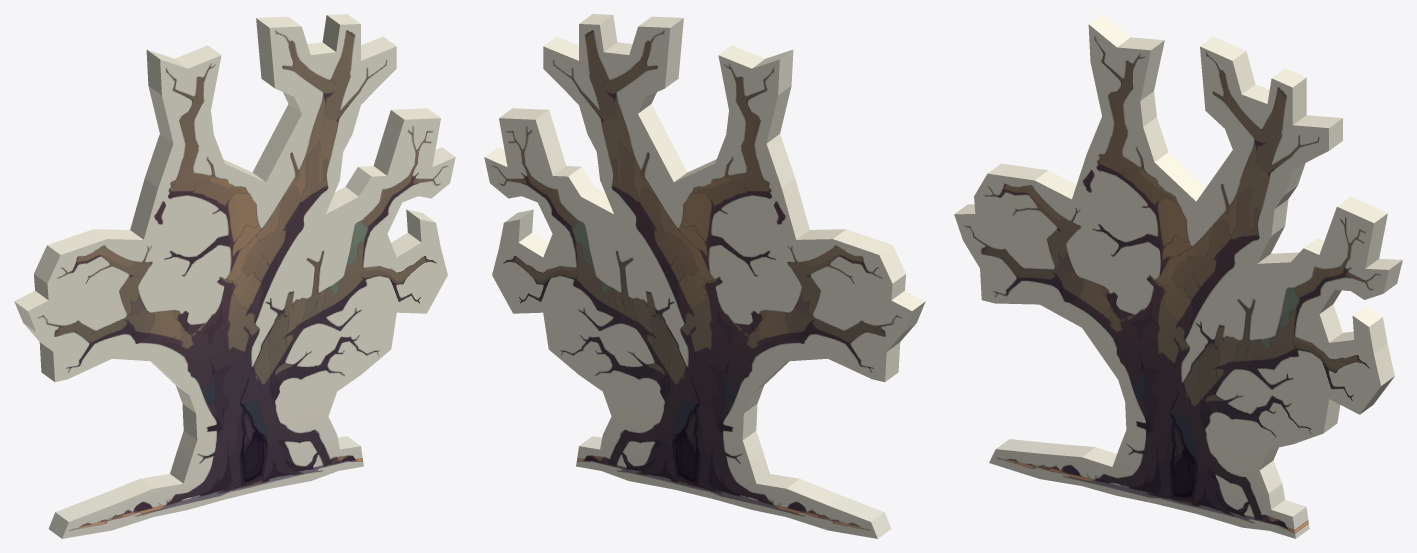
Rendered from tree.fbx.
The picture shows the model from 3 angles, left to right: view 1: azimuth 30°, elevation 25°; view 2: azimuth 150°, elevation 25°; view 3: azimuth 330°, elevation 25°; orthographic projection.
Visible parts, largest first — view 1: Plane; view 2: Plane; view 3: Plane.
Part boxes in pixels (x1,y1,x2,y2): Plane: (14, 14, 455, 538); Plane: (484, 14, 925, 538); Plane: (954, 14, 1402, 538).
Size of the model in its own units: 182 by 188 by 10.
